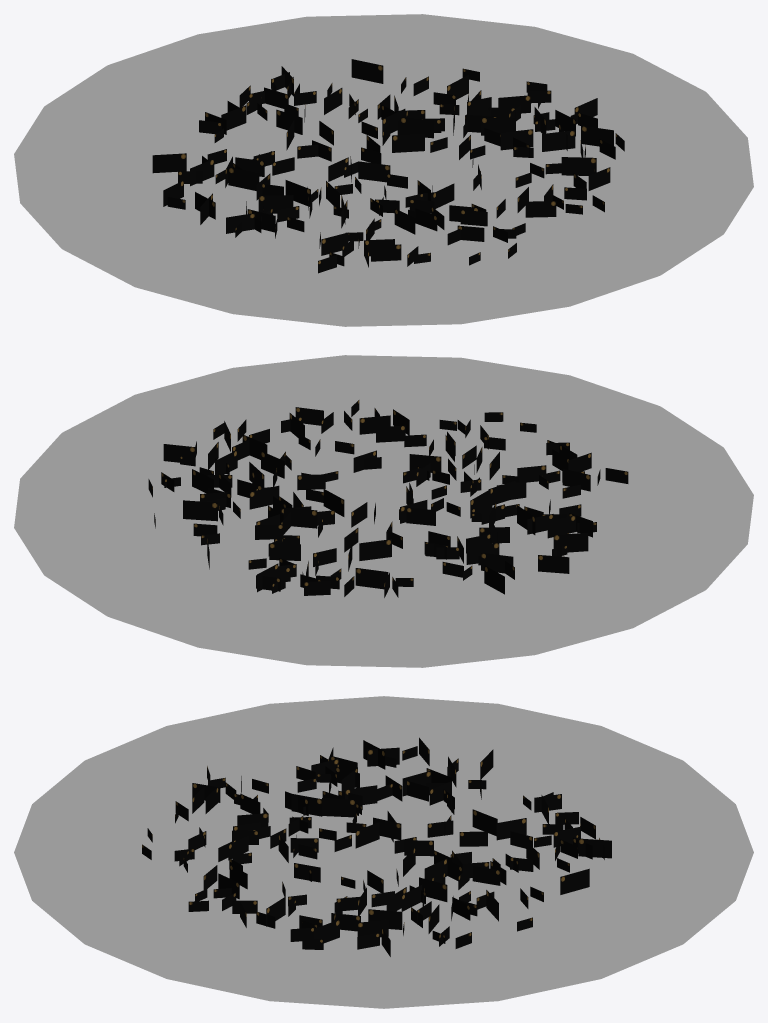
File: FBX_Grass.fbx
The picture shows the model from 3 angles, top to bottom: view 1: azimuth 30°, elevation 25°; view 2: azimuth 150°, elevation 25°; view 3: azimuth 270°, elevation 25°; orthographic projection.
Parts seen in each view (by area): view 1: MESH_Grass_Base, MESH_Grass_Clumps; view 2: MESH_Grass_Base, MESH_Grass_Clumps; view 3: MESH_Grass_Base, MESH_Grass_Clumps.
Boxes of the visible parts, x1=… form: MESH_Grass_Base: x1=14, y1=14, x2=753, y2=326; MESH_Grass_Clumps: x1=152, y1=59, x2=624, y2=273; MESH_Grass_Base: x1=14, y1=355, x2=753, y2=667; MESH_Grass_Clumps: x1=148, y1=400, x2=628, y2=597; MESH_Grass_Base: x1=14, y1=696, x2=753, y2=1008; MESH_Grass_Clumps: x1=142, y1=737, x2=611, y2=956.
Size of the model in its own units: 2375 by 74.08 by 2375.
